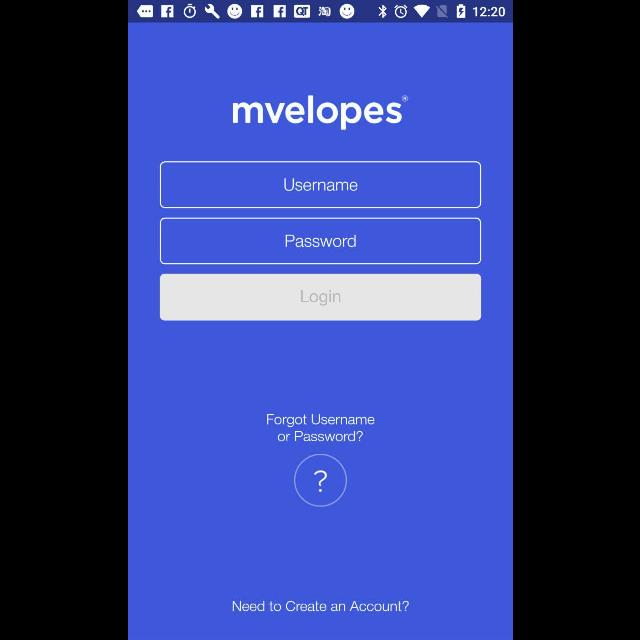icon: (294, 454, 346, 506)
input: (159, 162, 481, 208), (159, 218, 481, 264)
text: (232, 95, 408, 131), (266, 414, 374, 442), (232, 600, 408, 612), (284, 178, 356, 192), (285, 235, 355, 248)
textbutton: (159, 274, 481, 320)
uppertaskbar: (128, 1, 512, 23)
